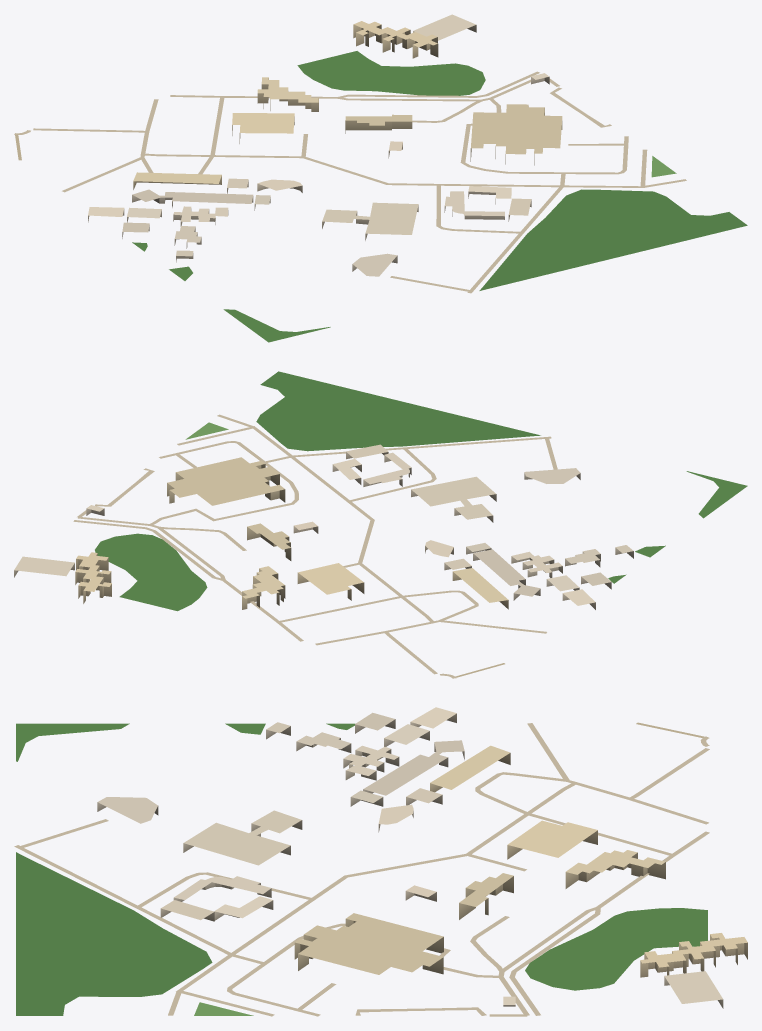
3 views of the same model, one above another, from view 1: azimuth 30°, elevation 25°; view 2: azimuth 150°, elevation 25°; view 3: azimuth 270°, elevation 25° (orthographic). The views are drawn at different scales.
Visible parts, largest first — view 1: ground, building; view 2: ground, building; view 3: ground, building.
Part boxes in pixels (x1,y1,x2,y2): ground: [14, 51, 747, 342]; building: [88, 14, 562, 276]; ground: [73, 371, 747, 678]; building: [14, 444, 633, 609]; ground: [14, 722, 709, 1016]; building: [97, 707, 747, 1008].
Size of the model in its own units: 515 by 14 by 530.
